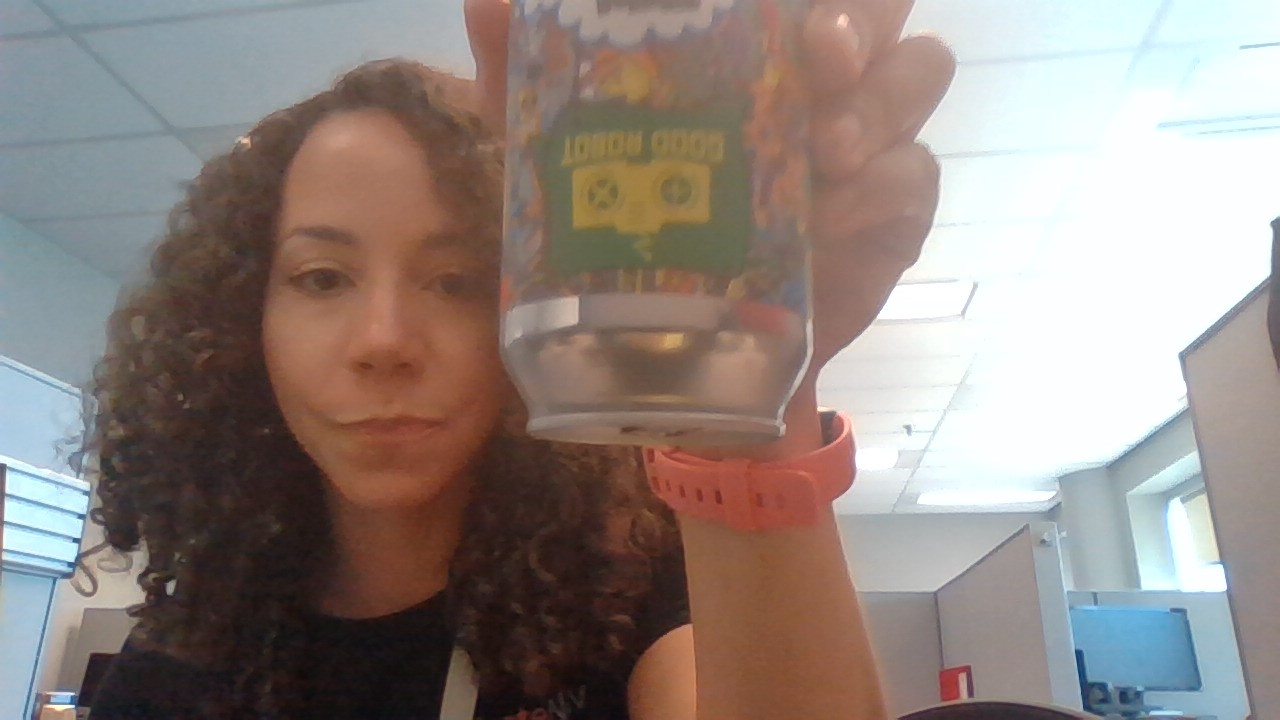Good Robot: (553, 153, 729, 270)
